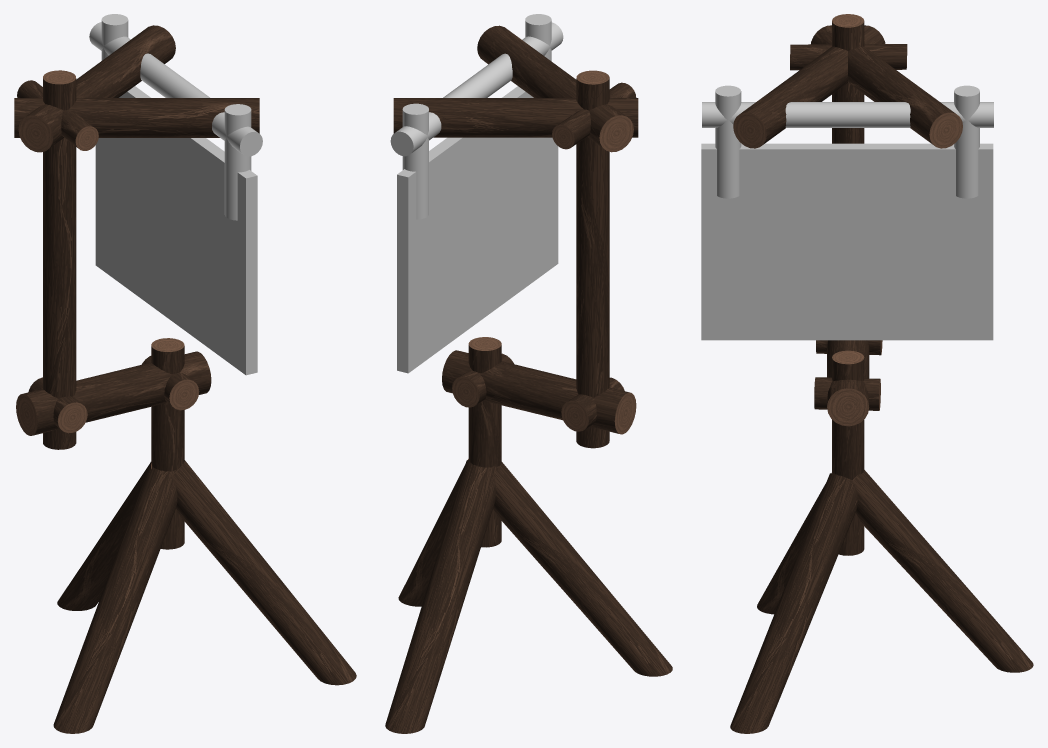
The model's file is target.fbx.
3 renders of one model, left to right at view 1: azimuth 30°, elevation 25°; view 2: azimuth 150°, elevation 25°; view 3: azimuth 270°, elevation 25°, orthographic. The views are drawn at different scales.
Parts seen in each view (by area): view 1: pCylinder19, pCylinder18; view 2: pCylinder19, pCylinder18; view 3: pCylinder18, pCylinder19.
Boxes of the visible parts, box(x1,y1,x2,y2) form: pCylinder19: box(14, 25, 356, 733); pCylinder18: box(89, 14, 262, 375); pCylinder19: box(385, 25, 672, 733); pCylinder18: box(390, 14, 563, 373); pCylinder18: box(701, 85, 993, 340); pCylinder19: box(730, 14, 1033, 733).
Size of the model in its own units: 198 by 408 by 205.
